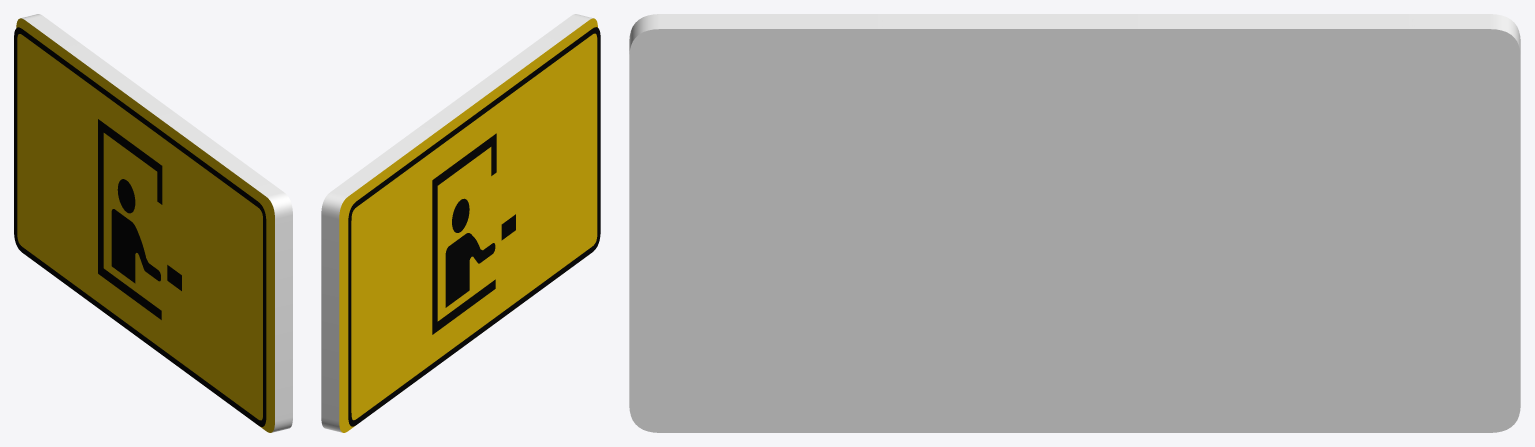
The model's file is Manual_Toll_Lane.fbx.
The picture shows the model from 3 angles, left to right: view 1: azimuth 30°, elevation 25°; view 2: azimuth 150°, elevation 25°; view 3: azimuth 270°, elevation 25°; orthographic projection. The views are drawn at different scales.
Visible parts, largest first — view 1: Manual_Toll_Lane; view 2: Manual_Toll_Lane; view 3: Manual_Toll_Lane.
Part boxes in pixels (x1=…): Manual_Toll_Lane: x1=14, y1=14, x2=292, y2=432; Manual_Toll_Lane: x1=321, y1=14, x2=600, y2=432; Manual_Toll_Lane: x1=629, y1=14, x2=1520, y2=432.
Size of the model in its own units: 0.0262 by 0.25 by 0.5.
